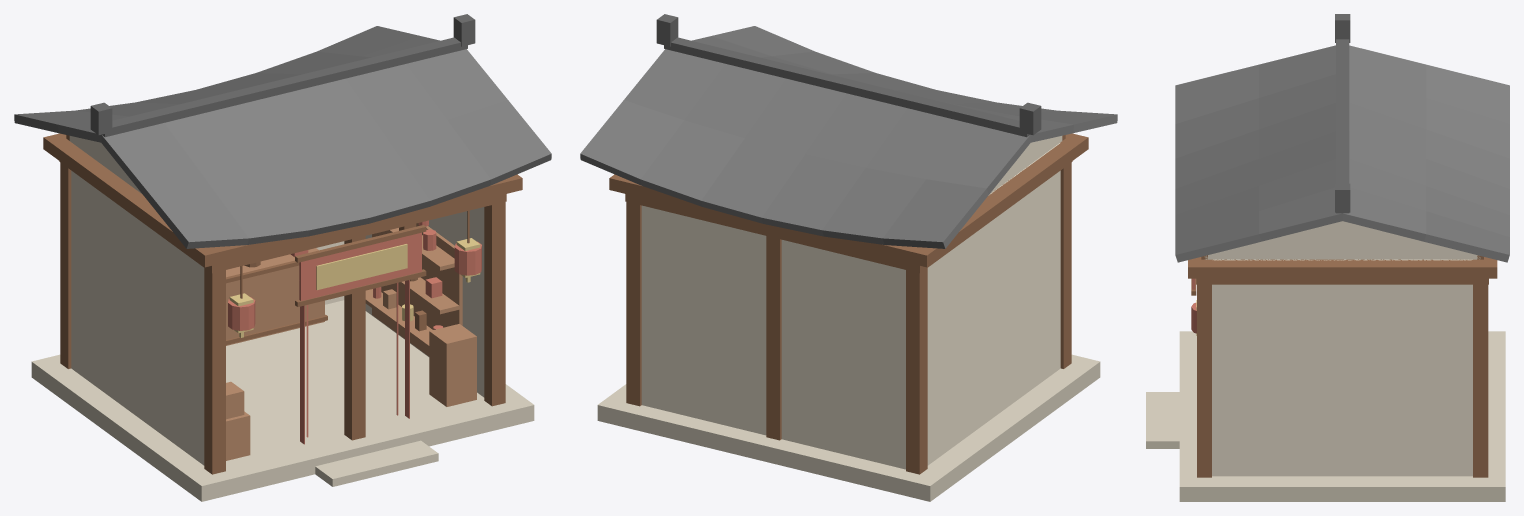
Rendered from Shop_EastAsia.fbx.
The picture shows the model from 3 angles, left to right: view 1: azimuth 30°, elevation 25°; view 2: azimuth 150°, elevation 25°; view 3: azimuth 270°, elevation 25°; orthographic projection. The views are drawn at different scales.
Parts seen in each view (by area): view 1: Shop_EastAsia_Mesh; view 2: Shop_EastAsia_Mesh; view 3: Shop_EastAsia_Mesh.
Part boxes in pixels (left/top/right/bottom): Shop_EastAsia_Mesh: left=14, top=14, right=551, bottom=501; Shop_EastAsia_Mesh: left=580, top=14, right=1117, bottom=501; Shop_EastAsia_Mesh: left=1146, top=14, right=1509, bottom=501.
Size of the model in its own units: 4.98 by 4.25 by 4.35.
